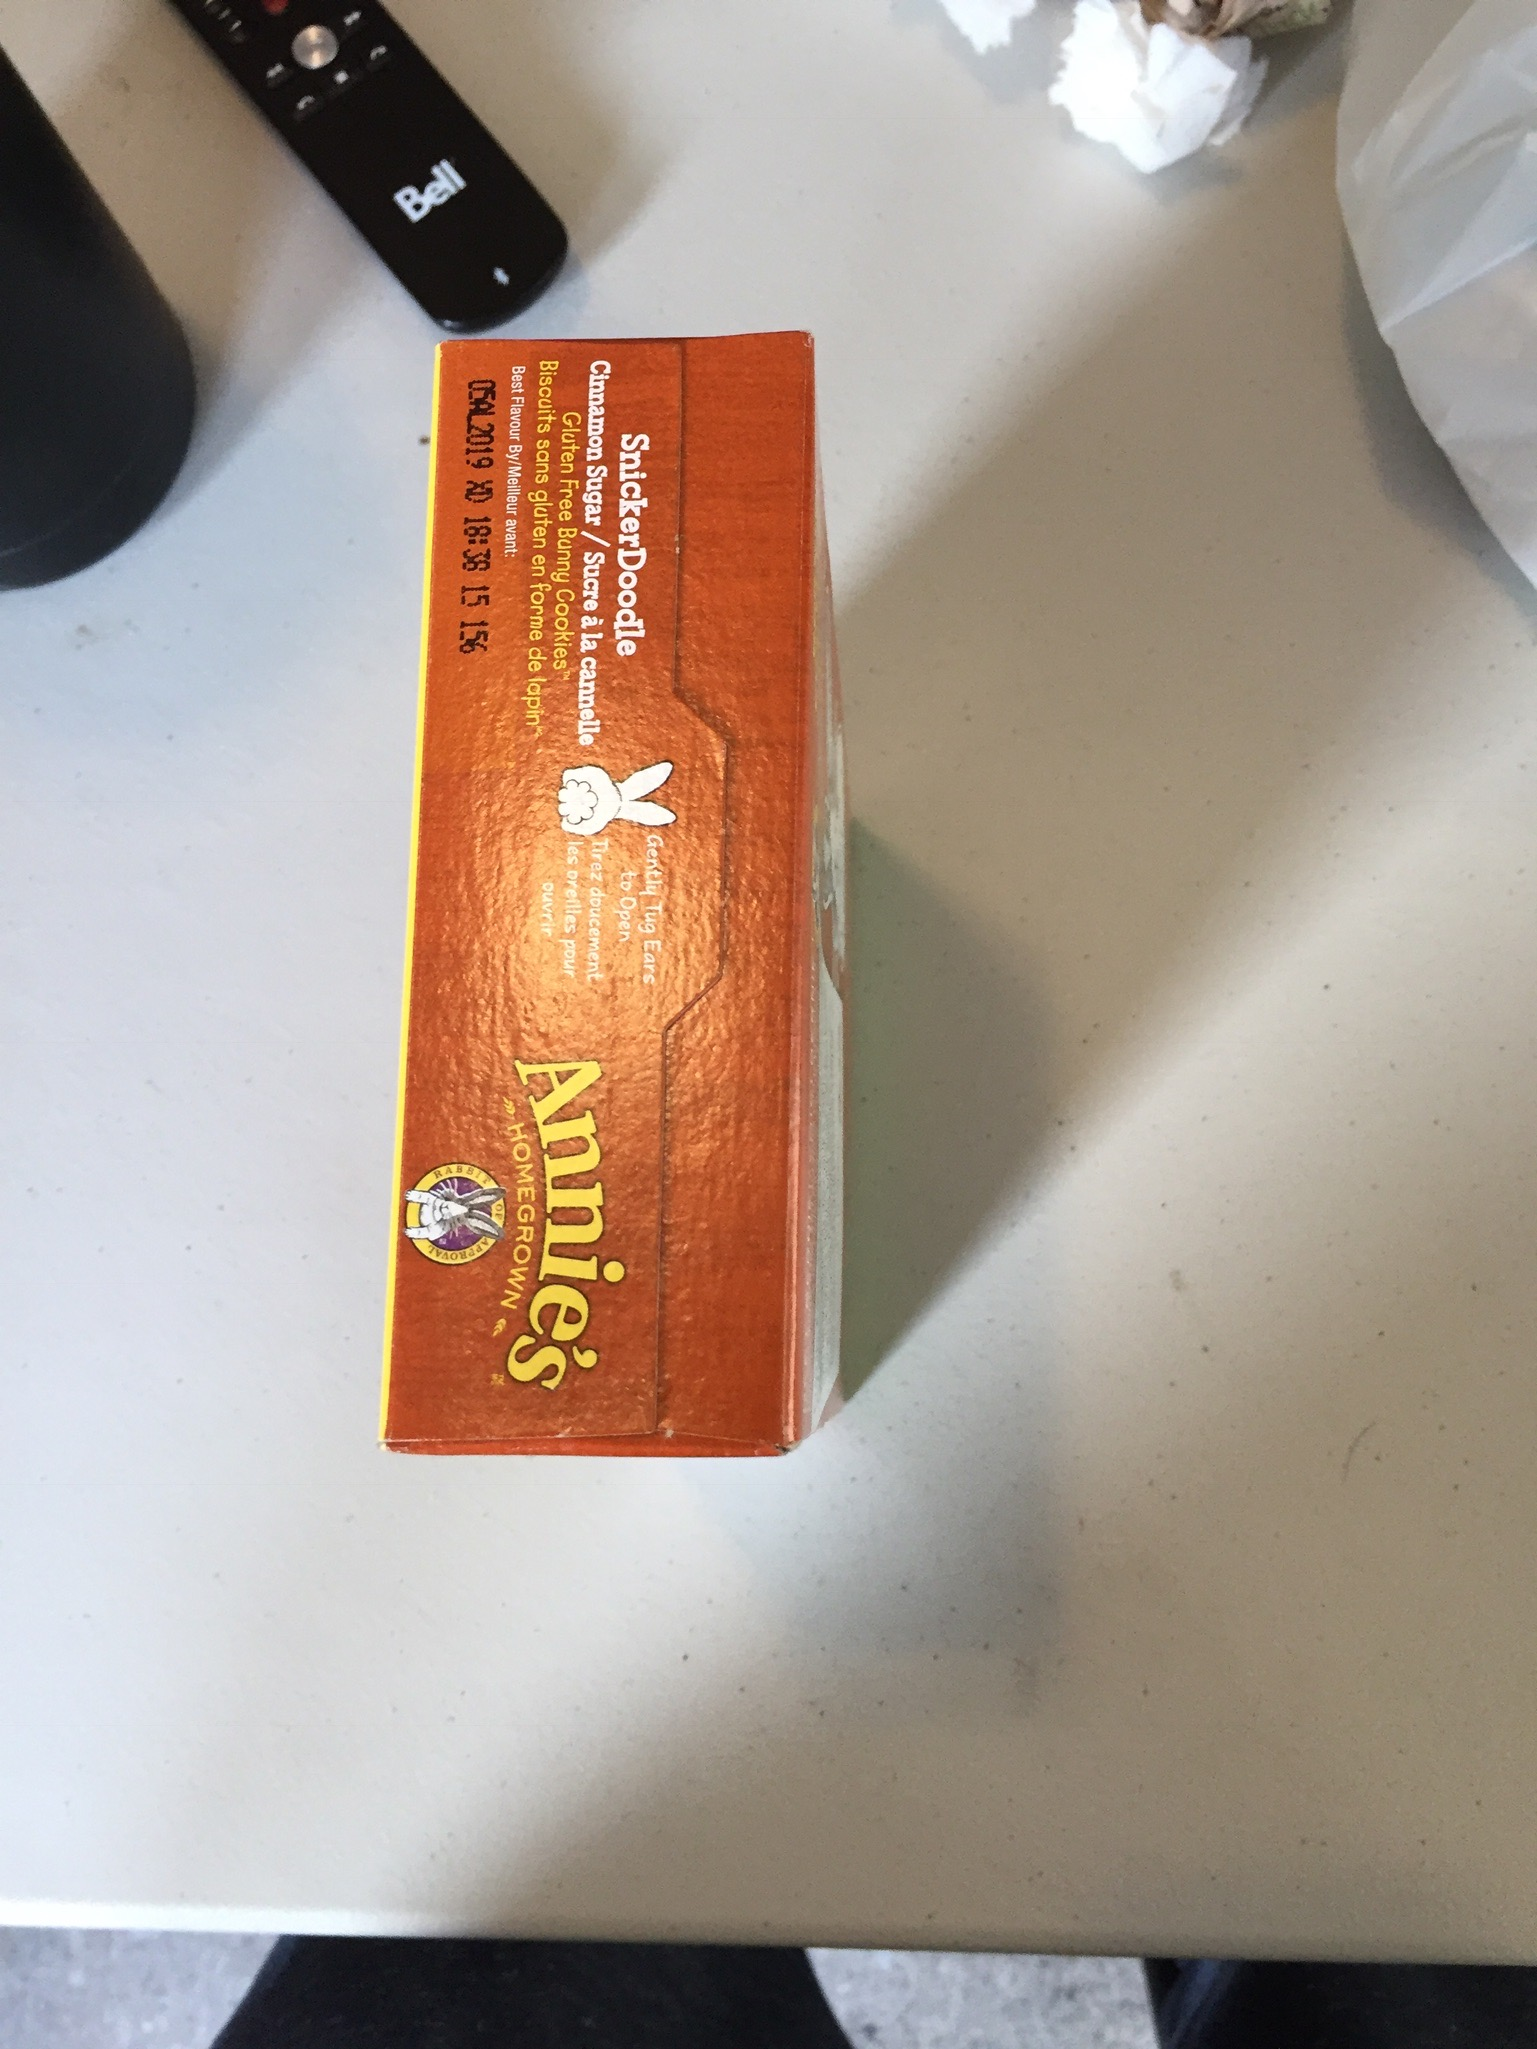annies_snickerdoodle_cinnamon_sugar: (449, 341, 814, 1435)
